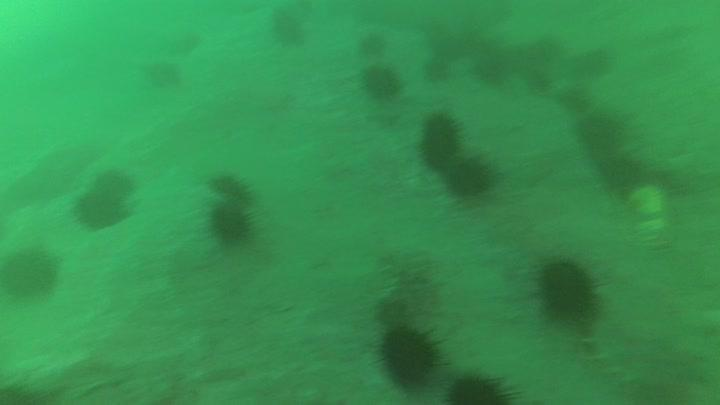urchin: (374, 322, 449, 384), (531, 253, 601, 318), (3, 242, 62, 296), (446, 370, 515, 405), (418, 110, 463, 163), (569, 111, 624, 153), (440, 152, 492, 196), (68, 190, 124, 230), (211, 196, 251, 242), (356, 60, 403, 96), (92, 163, 140, 198)
